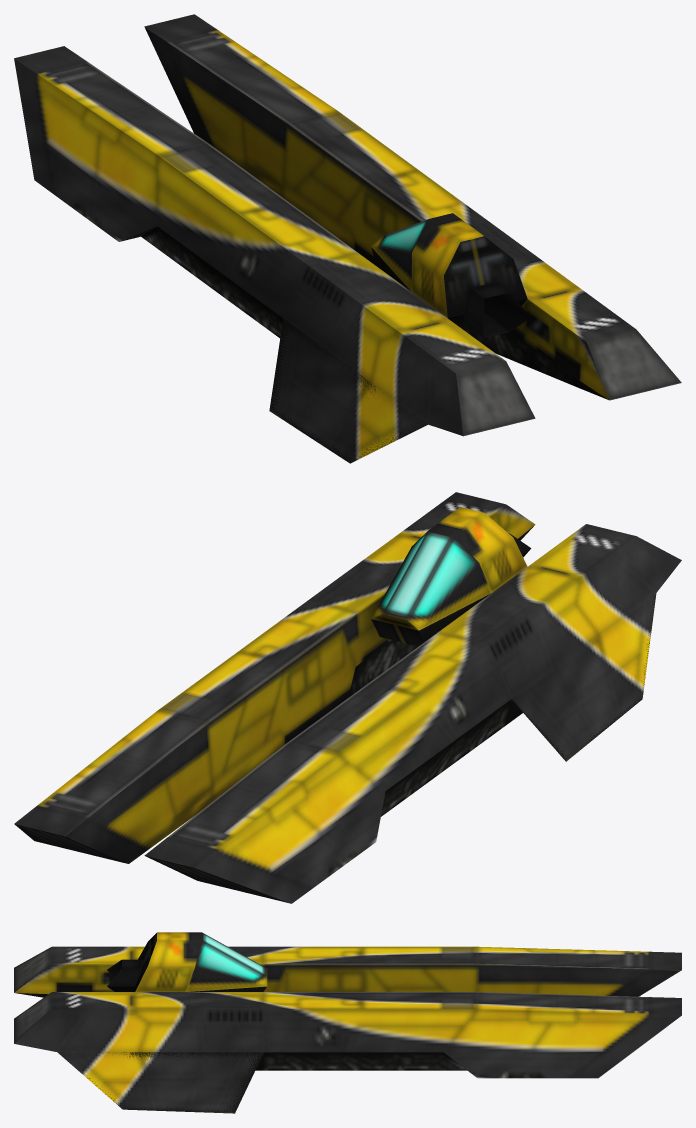
Rendered from Scorpio.FBX.
3 renders of one model, top to bottom at view 1: azimuth 30°, elevation 25°; view 2: azimuth 150°, elevation 25°; view 3: azimuth 270°, elevation 25°, orthographic. The views are drawn at different scales.
Parts seen in each view (by area): view 1: Scorpio; view 2: Scorpio; view 3: Scorpio.
Boxes of the visible parts, left/top/right/bottom form: Scorpio: left=14, top=14, right=681, bottom=463; Scorpio: left=14, top=492, right=681, bottom=903; Scorpio: left=14, top=932, right=681, bottom=1113.
Bounding box in the file's own units: 5.9 × 3.34 × 16.14.
